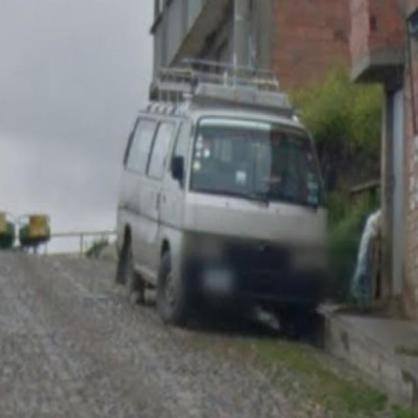car: (116, 60, 334, 331)
